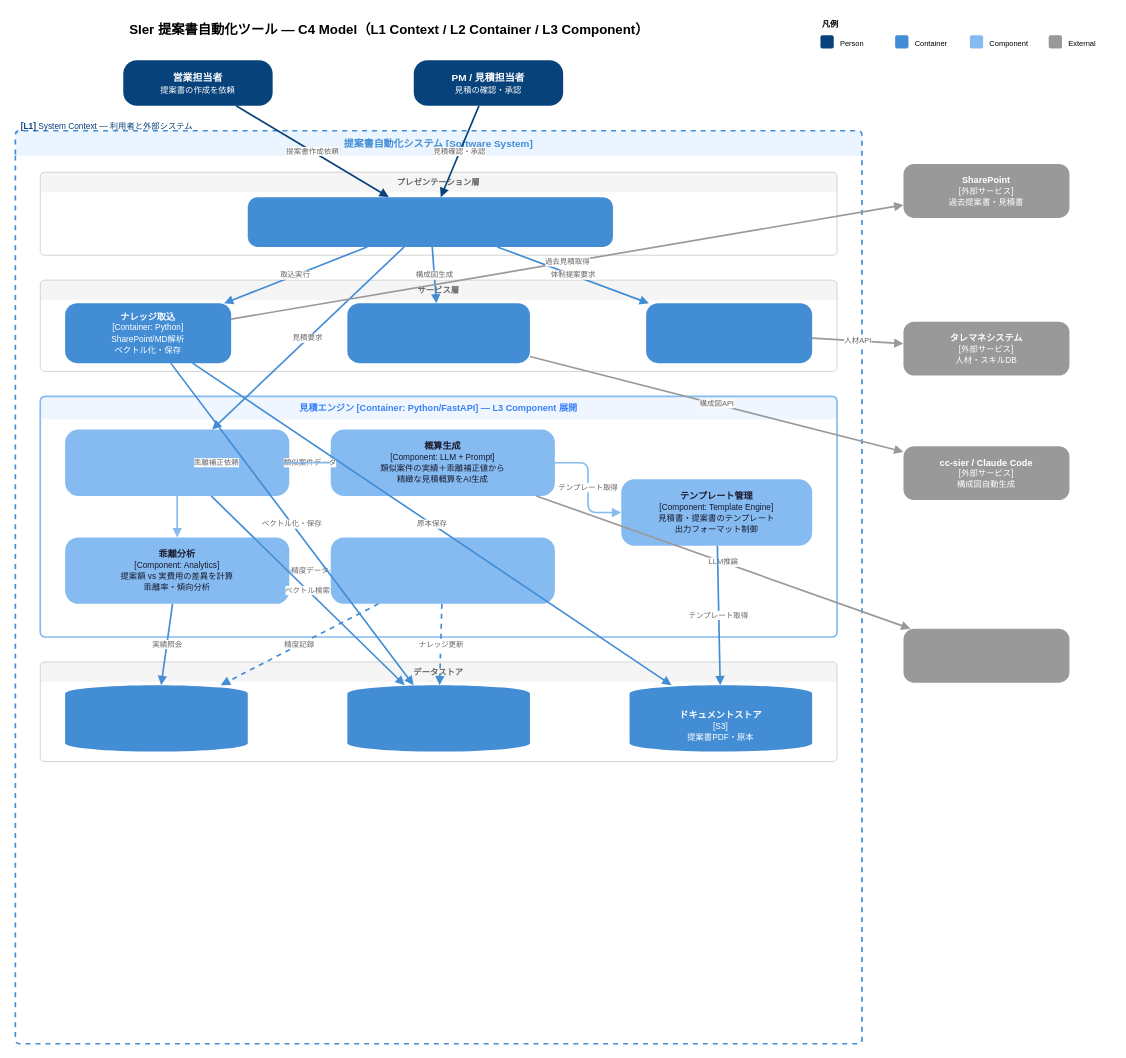
This 1126x1058 diagram has some shape labels left out. Each missing label, with the centre of its shape:
Claude API [外部サービス] LLM推論エンジン: the point at 986,655
VectorDB [pgvector] 見積ナレッジ・案件ベクトル: the point at 438,718
体制提案サービス [Container: Python] タレマネAPI連携 AIによる体制提案: the point at 729,333
実績DB [PostgreSQL] 提案額・実費用・工数: the point at 156,718
提案書作成UI [Container: Next.js SPA] 提案書作成・見積ダッシュボード・進捗管理: the point at 430,222
構成図生成サービス [Container: Python] cc-sier API連携 AWS/アーキ図の自動生成: the point at 438,333
精度フィードバック [Component: Learning Loop] 見積精度を記録し次回に反映 ベクトルDBのナレッジを更新: the point at 442,570
類似案件検索 [Component: RAG Pipeline] 過去案件をベクトル類似度で検索 見積根拠となる類似実績を抽出: the point at 177,462
